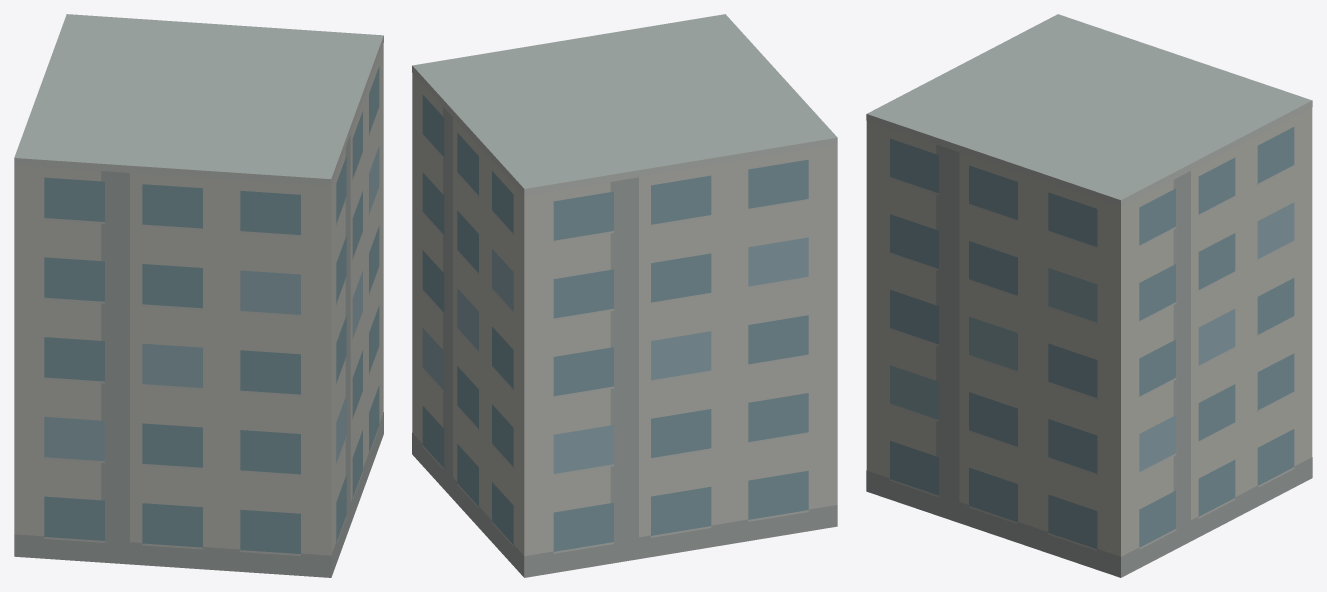
The model's file is survey-upis-32879936.glb.
The picture shows the model from 3 angles, left to right: view 1: azimuth 30°, elevation 25°; view 2: azimuth 150°, elevation 25°; view 3: azimuth 270°, elevation 25°; orthographic projection. The views are drawn at different scales.
Parts seen in each view (by area): view 1: survey-upis-32879936.tmp; view 2: survey-upis-32879936.tmp; view 3: survey-upis-32879936.tmp.
Part boxes in pixels (x1=…): survey-upis-32879936.tmp: x1=14, y1=14, x2=383, y2=577; survey-upis-32879936.tmp: x1=412, y1=14, x2=837, y2=577; survey-upis-32879936.tmp: x1=866, y1=14, x2=1312, y2=577.
Bounding box in the file's own units: 14.07 × 13.3 × 14.24.
